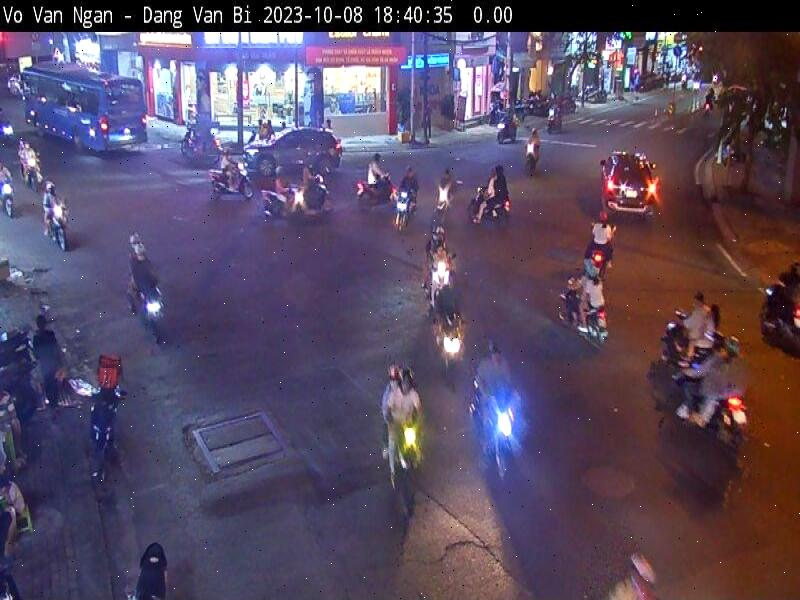bus: (21, 60, 153, 157)
car: (238, 120, 344, 177), (599, 145, 659, 228)
motorcycle: (663, 358, 748, 458), (468, 376, 521, 486), (381, 418, 427, 526), (558, 273, 612, 354), (89, 378, 129, 481), (754, 275, 800, 357), (122, 540, 174, 600), (128, 278, 172, 348), (205, 159, 254, 204), (282, 177, 336, 216), (440, 312, 468, 386), (467, 187, 512, 229), (39, 202, 75, 252), (392, 184, 422, 232), (424, 188, 455, 232), (250, 189, 289, 222), (16, 160, 44, 197), (521, 139, 544, 175), (0, 176, 19, 219)
